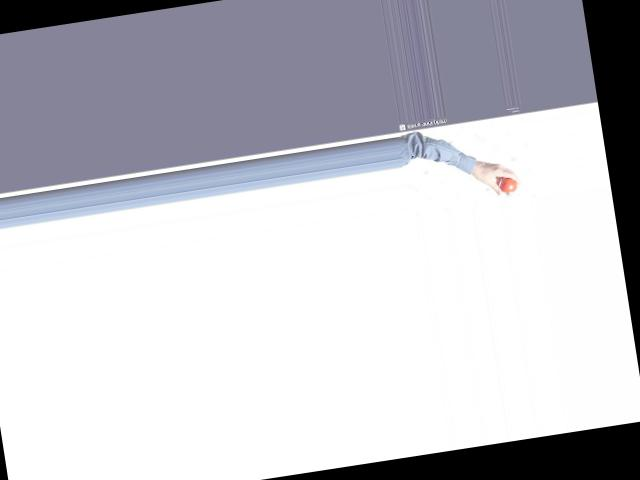tomato: (499, 176, 518, 193)
